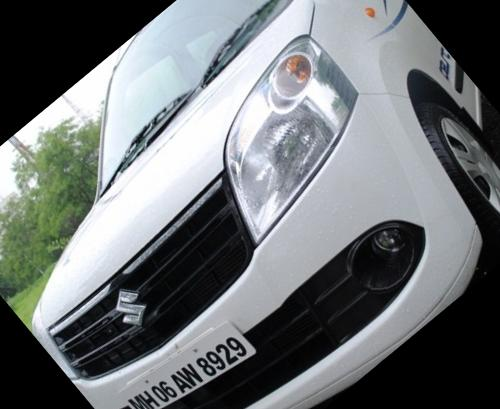plate: (114, 303, 263, 409)
